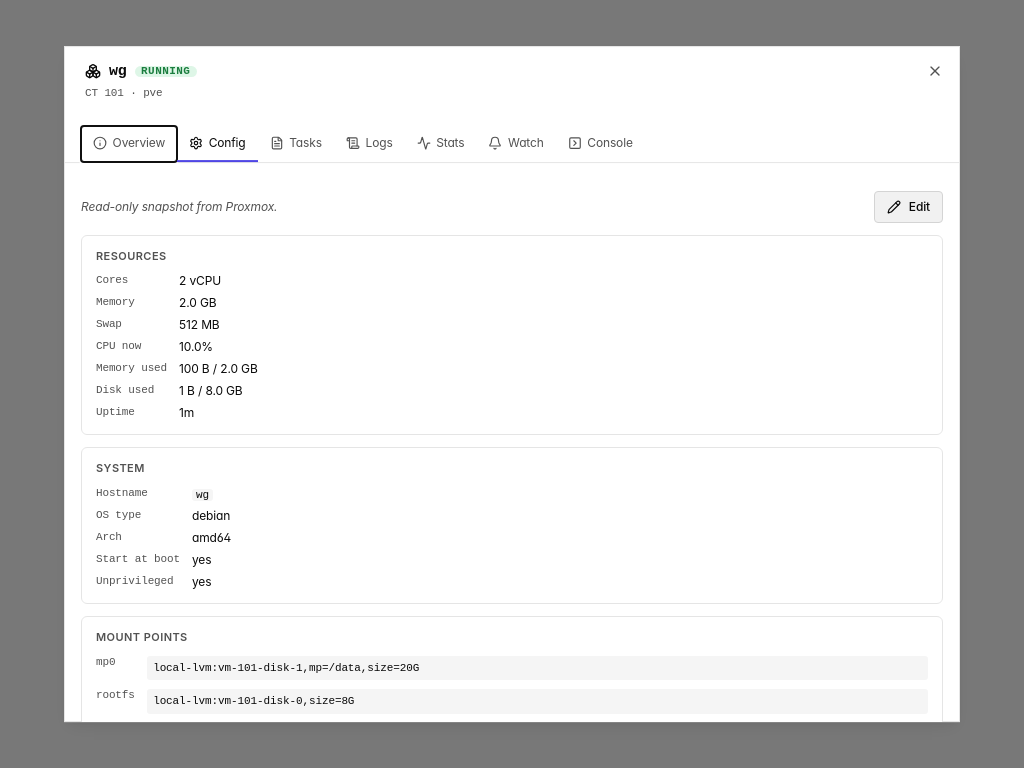
Scenario: LxcModal Config editor — V6.9 › parses existing net / mp rows into structured fields
Click the button "Edit" at (908, 207), box [874,191,943,223]
(page scrolled)
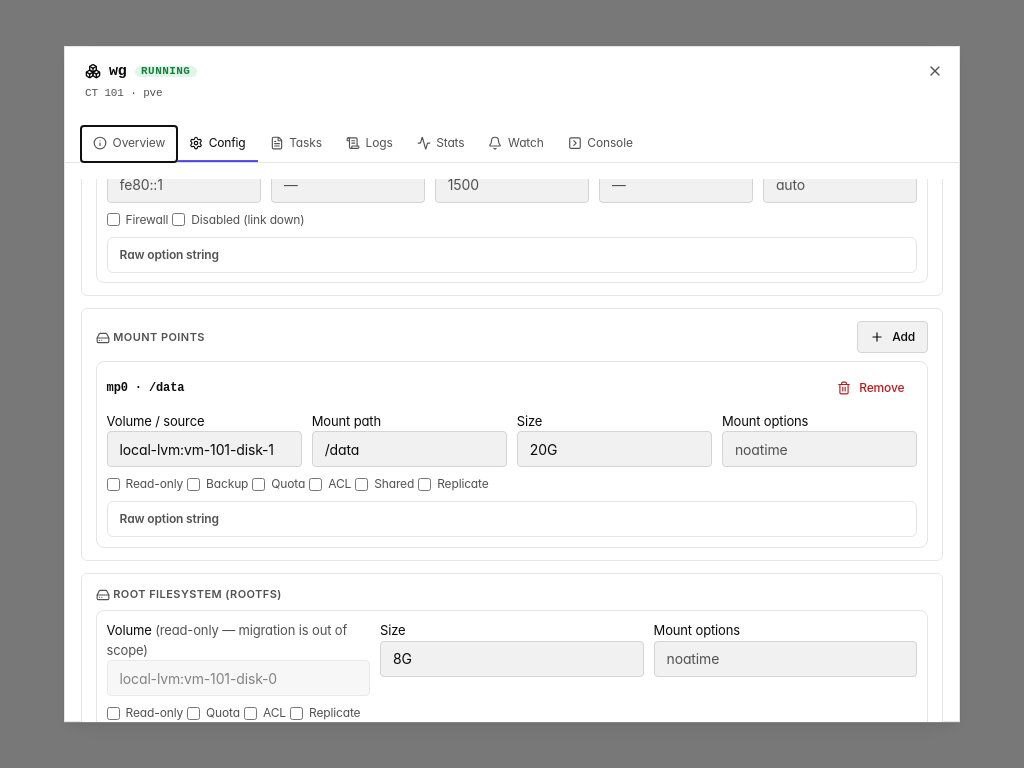
Check: the field showing "/data" is shown, box [312,432,507,468]
Check: the field showing "20G" below "Mount path" is shown, box [517,432,712,468]
